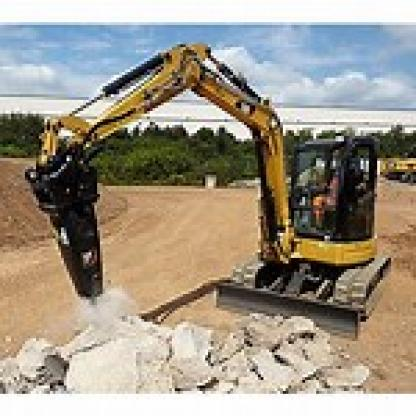excavator: (6, 30, 413, 338)
